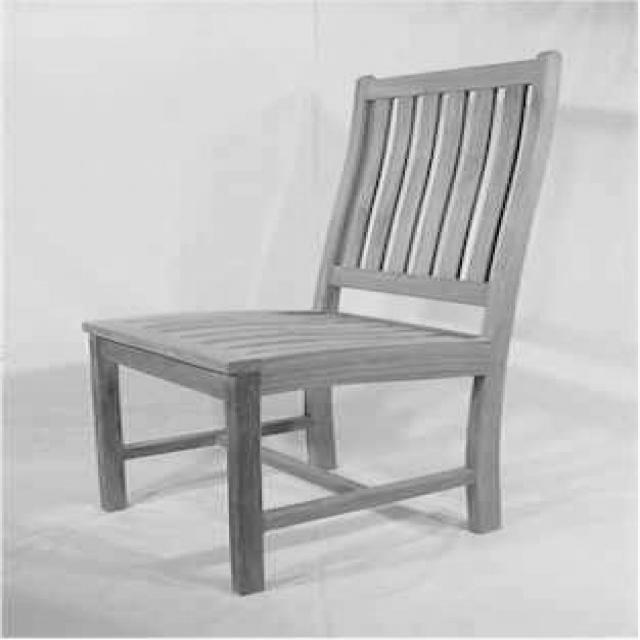chair: (81, 43, 567, 597)
